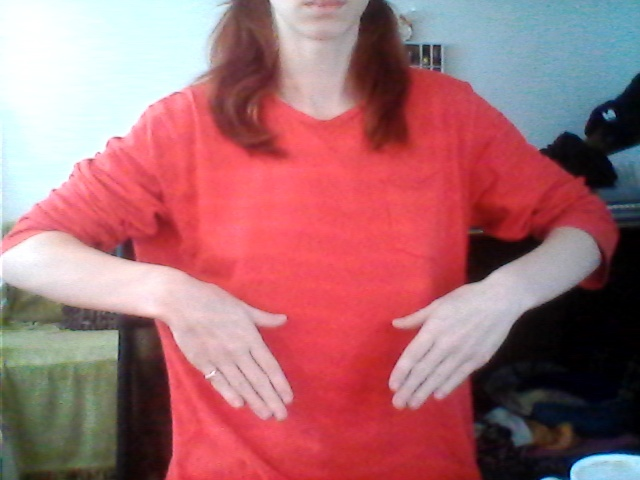zena: (143, 248, 519, 438)
